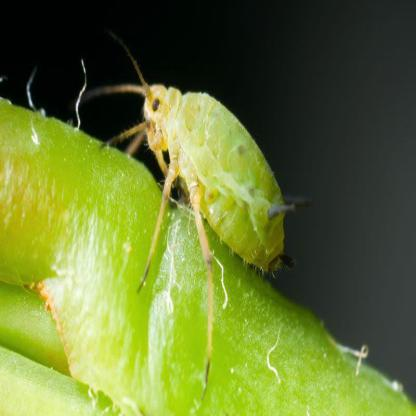aphid: (117, 45, 304, 353)
